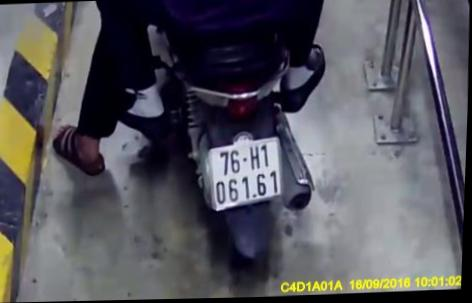LP: (207, 138, 286, 214)
